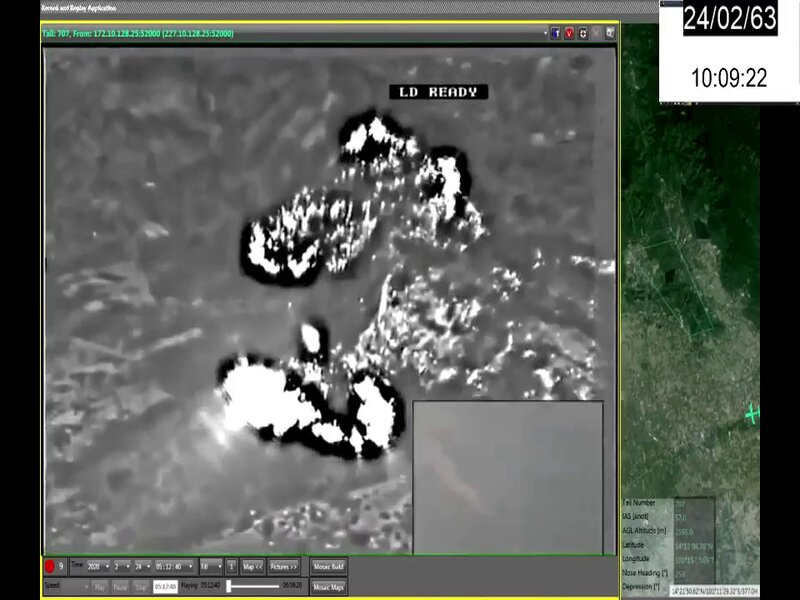Fire: (215, 108, 408, 464)
